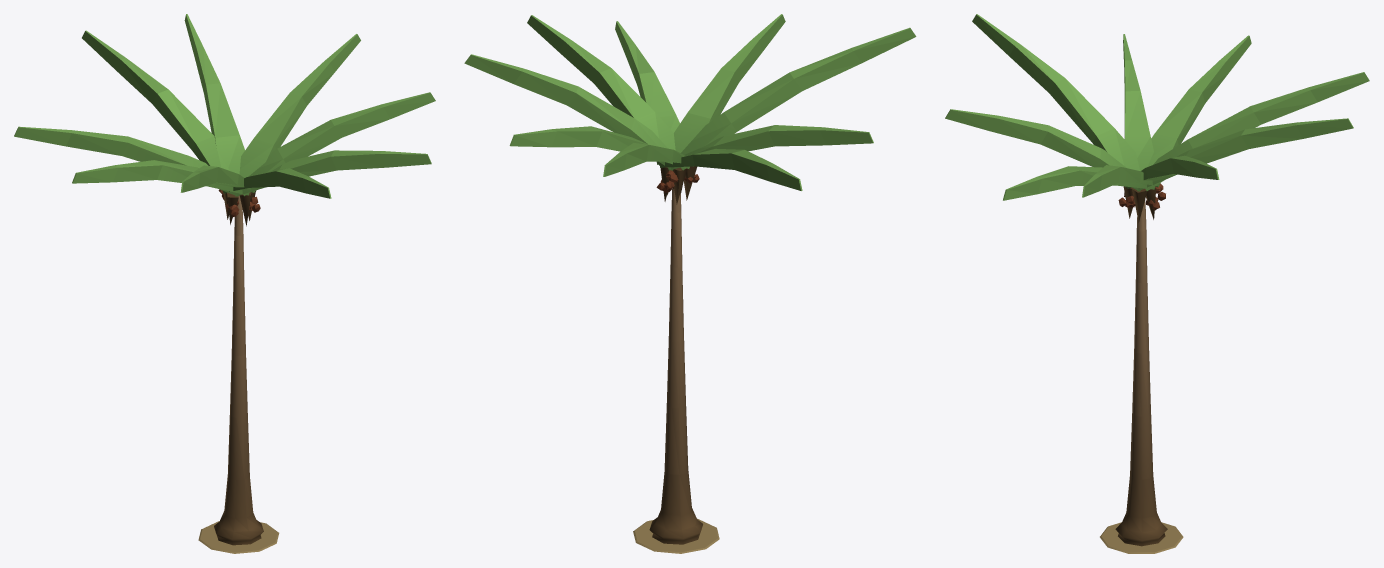
The model's file is date_palm.glb.
3 renders of one model, left to right at view 1: azimuth 30°, elevation 25°; view 2: azimuth 150°, elevation 25°; view 3: azimuth 270°, elevation 25°, orthographic. The views are drawn at different scales.
Parts seen in each view (by area): view 1: date_palm; view 2: date_palm; view 3: date_palm.
Part boxes in pixels (x1,y1,x2,y2): date_palm: [14, 14, 435, 553]; date_palm: [464, 14, 916, 553]; date_palm: [945, 14, 1369, 553].
Bounding box in the file's own units: 4.99 × 6.21 × 5.26.
